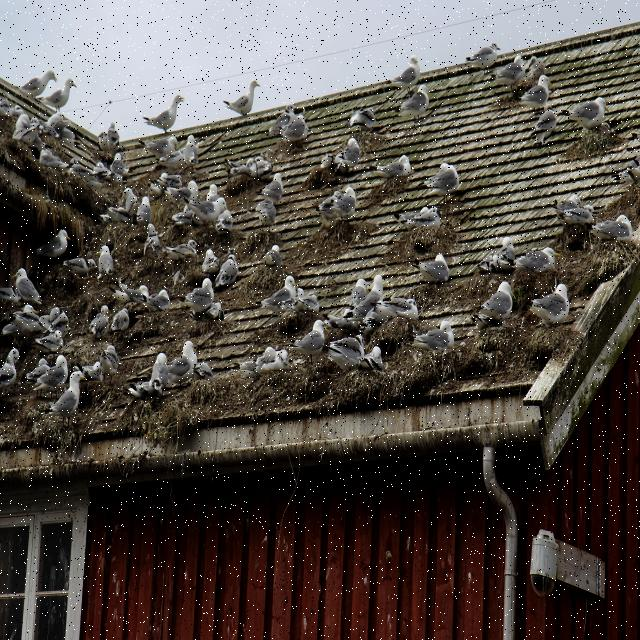bird: (44, 369, 88, 429), (561, 96, 611, 138), (474, 280, 516, 330), (26, 354, 69, 402), (550, 192, 596, 235), (528, 282, 570, 329), (412, 318, 456, 360), (316, 184, 358, 228), (422, 160, 460, 208), (142, 94, 185, 136), (291, 318, 327, 368), (164, 339, 198, 391), (324, 333, 366, 375), (260, 273, 302, 313), (490, 53, 528, 97), (238, 344, 282, 382), (36, 76, 78, 115), (588, 213, 634, 248), (222, 79, 262, 119), (33, 226, 71, 268), (268, 106, 310, 144), (478, 236, 516, 276), (12, 112, 46, 156), (183, 276, 216, 321), (352, 274, 384, 320), (389, 54, 422, 98), (10, 266, 44, 308), (156, 141, 194, 177), (19, 68, 58, 102), (398, 84, 431, 124), (518, 73, 551, 113), (514, 245, 558, 275), (415, 252, 451, 288), (373, 153, 412, 185), (464, 42, 502, 74), (213, 252, 240, 294), (530, 107, 558, 147), (256, 345, 290, 375), (148, 351, 170, 397), (0, 348, 20, 398), (147, 133, 179, 162), (38, 144, 70, 173), (62, 256, 97, 282), (348, 106, 380, 134), (260, 171, 284, 207), (412, 204, 442, 232), (88, 304, 110, 342), (98, 346, 119, 384), (348, 276, 370, 312), (143, 288, 171, 316), (359, 344, 385, 374), (98, 121, 120, 156), (109, 306, 131, 341), (341, 136, 361, 174), (254, 196, 277, 228), (524, 53, 546, 85), (618, 158, 640, 190), (110, 150, 132, 182), (182, 133, 200, 171), (298, 290, 322, 316), (80, 360, 104, 386), (192, 358, 214, 386), (98, 244, 114, 282), (264, 242, 284, 272), (201, 246, 221, 276), (214, 208, 234, 238), (332, 151, 350, 177), (0, 285, 21, 306), (320, 152, 334, 170)
